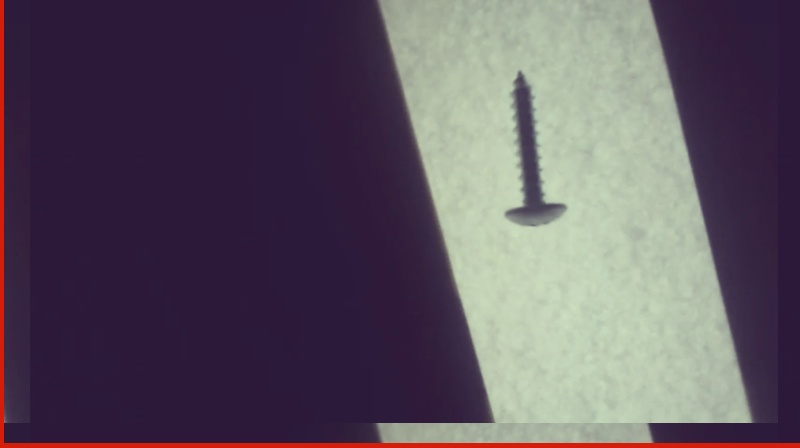S003: (499, 65, 569, 228)
